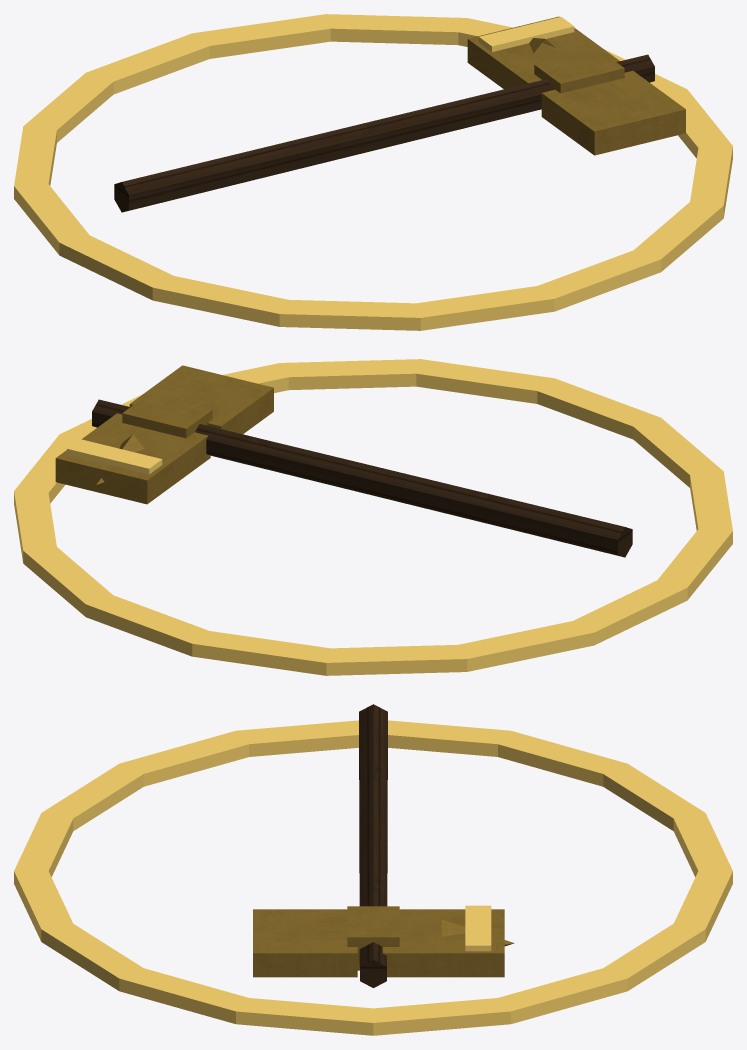
Rendered from loot_axe_g3.glb.
The picture shows the model from 3 angles, top to bottom: view 1: azimuth 30°, elevation 25°; view 2: azimuth 150°, elevation 25°; view 3: azimuth 270°, elevation 25°; orthographic projection.
Visible parts, largest first — view 1: loot_axe_g3; view 2: loot_axe_g3; view 3: loot_axe_g3.
Part boxes in pixels (<box>): loot_axe_g3: <box>14,14,732,330</box>; loot_axe_g3: <box>14,359,732,675</box>; loot_axe_g3: <box>14,704,732,1035</box>.
Bounding box in the file's own units: 1.37 × 0.135 × 1.37.
Materials: 3 (3 with a texture image).
